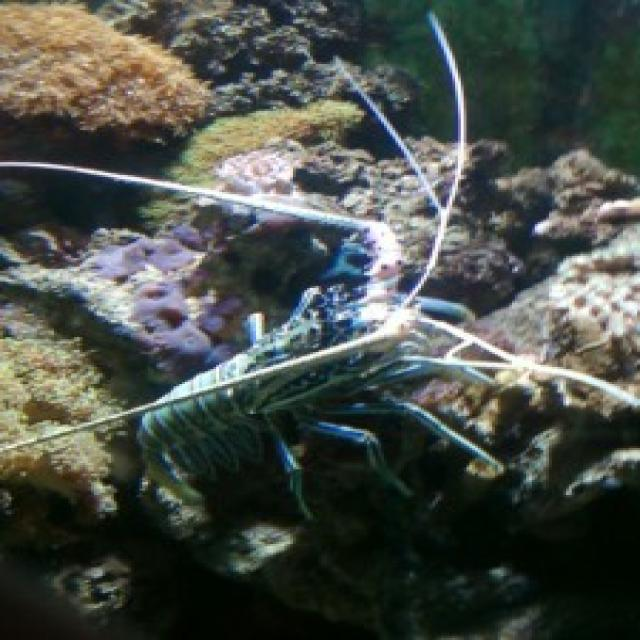lobsters: (62, 109, 622, 610)
